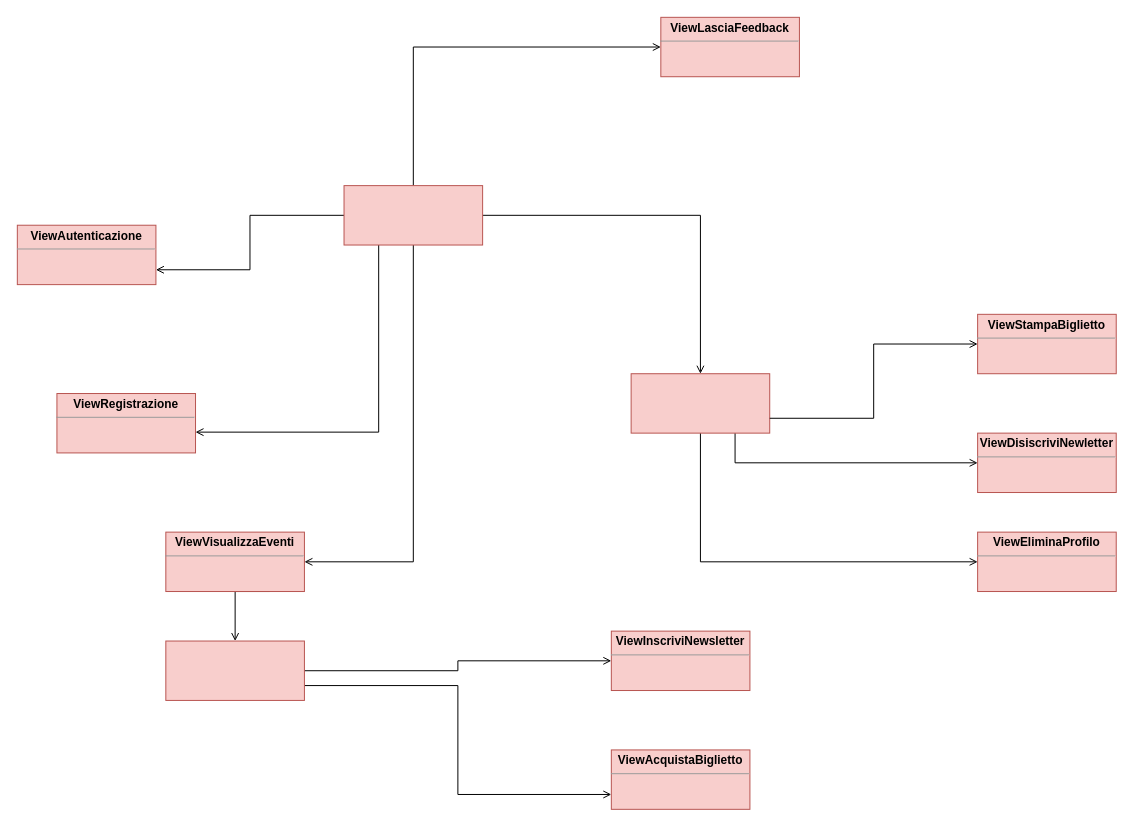
Image size: 1134x827. Some labels were removed from this diagram. The box of each missing label's shape, as (x1, y1, x2, y2) in pixels:
HomeUtente: (343, 185, 483, 245)
ViewDettaglioEvento: (165, 640, 304, 700)
ViewGestioneProfilo: (630, 373, 770, 433)
